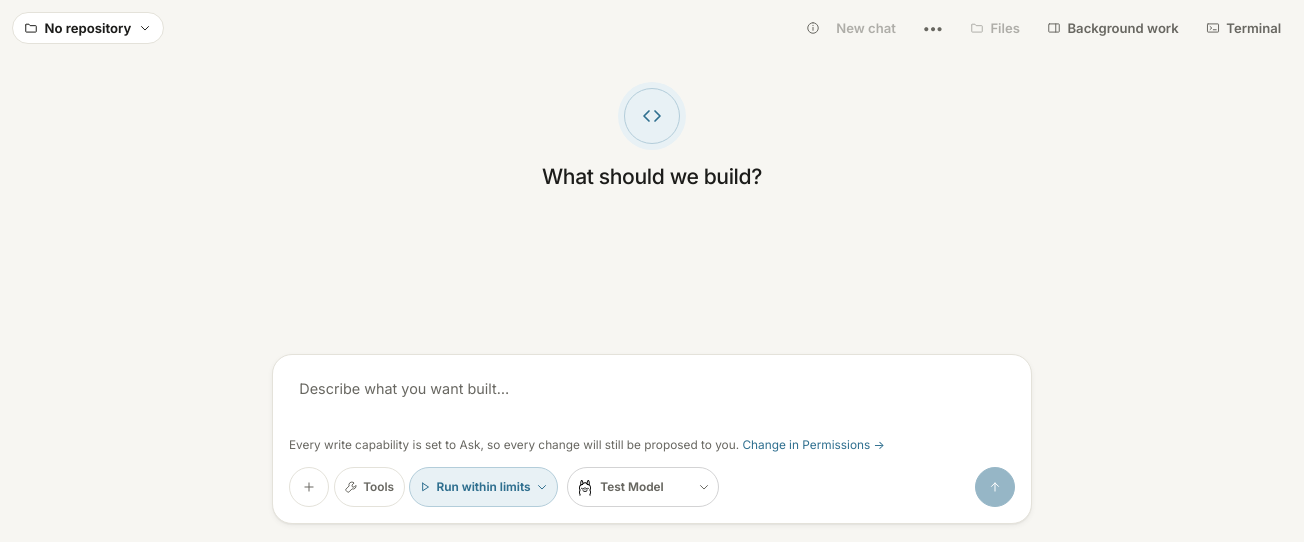
it: Build's artifact zone › closes the zone again, and the toggle says which state it is in
Click the button named "Add to this turn" at [309, 487], box top-left (289, 467), bottom-right (329, 507)
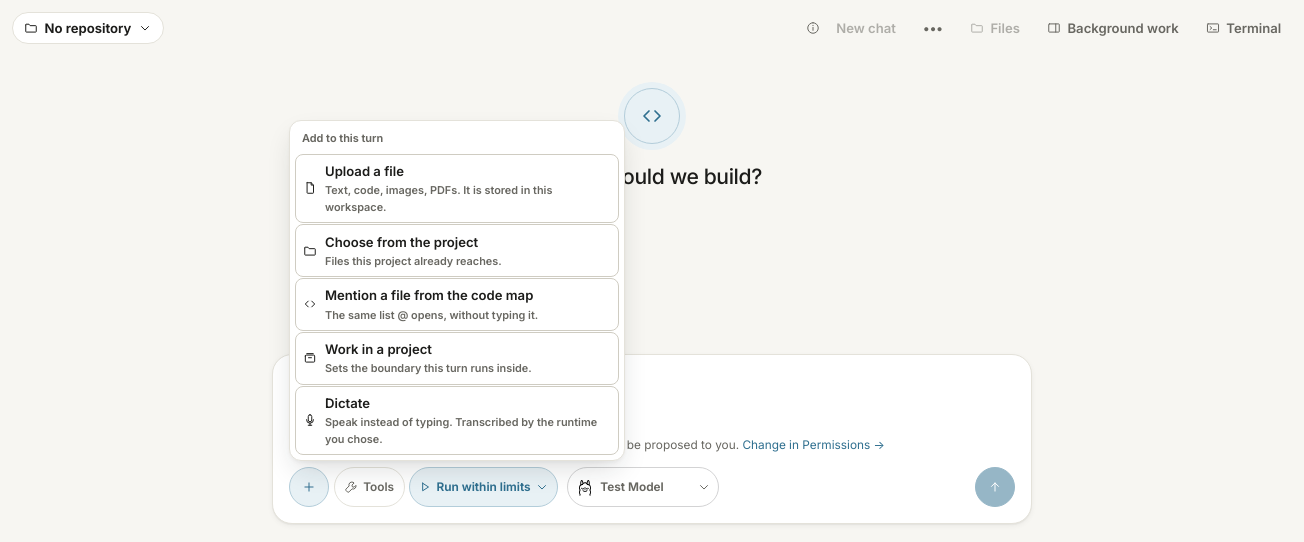
Click the menu item "Work in a project" at [378, 349], box top-left (295, 332), bottom-right (619, 385)
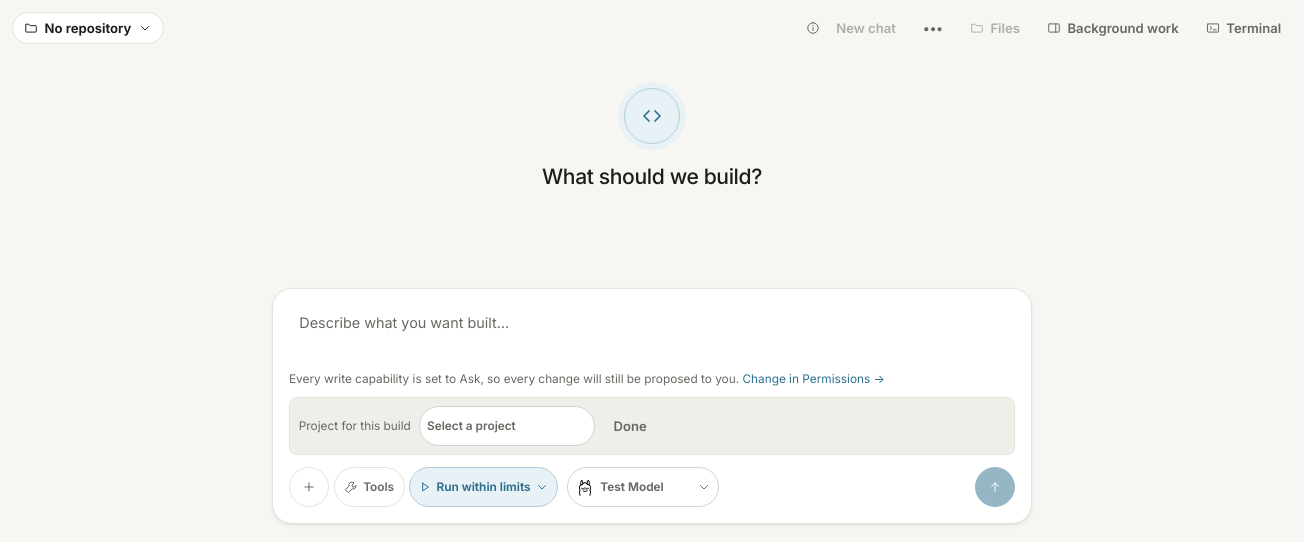
Select "Landing page" in the dropdown labelled "Project for this build" at [507, 426], box top-left (419, 406), bottom-right (595, 446)
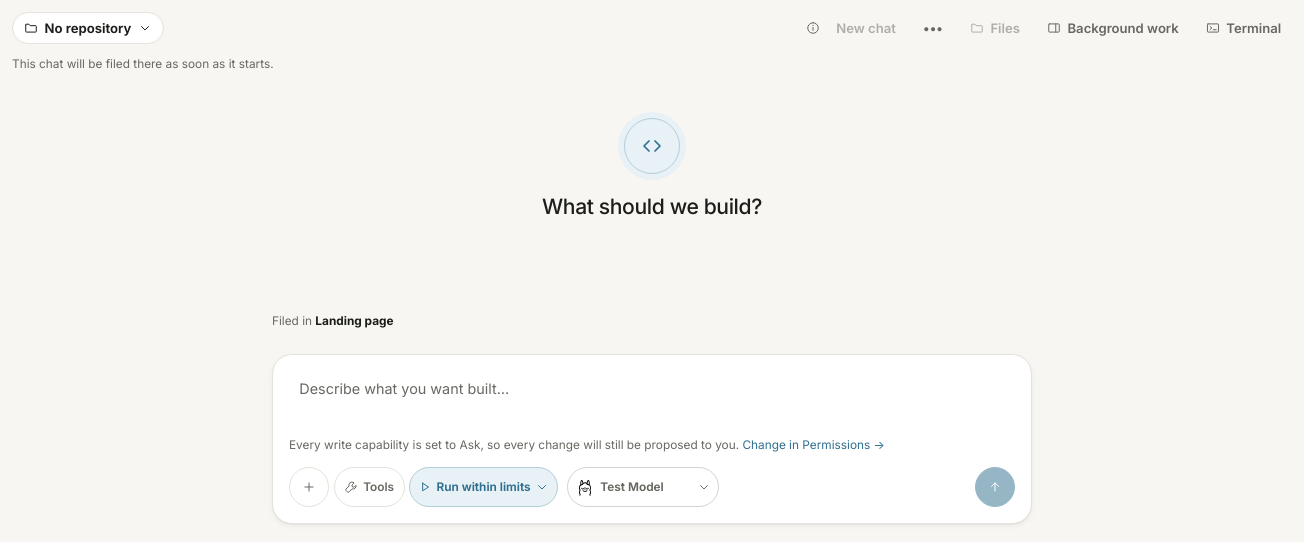
Click the button with aria-label "Show the governed terminal" at [1244, 28], box top-left (1195, 12), bottom-right (1292, 44)
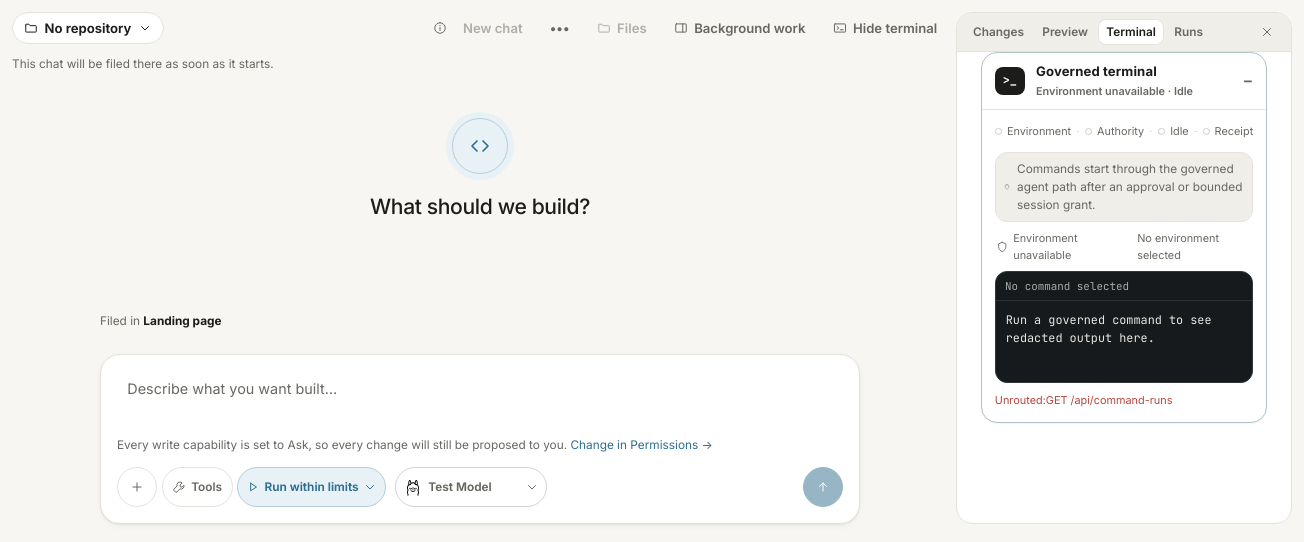
Check: the text "Governed terminal" is shown, box top-left (1036, 63), bottom-right (1157, 79)
Click the button with aria-label "Hide the governed terminal" at [885, 28], box top-left (822, 12), bottom-right (948, 44)
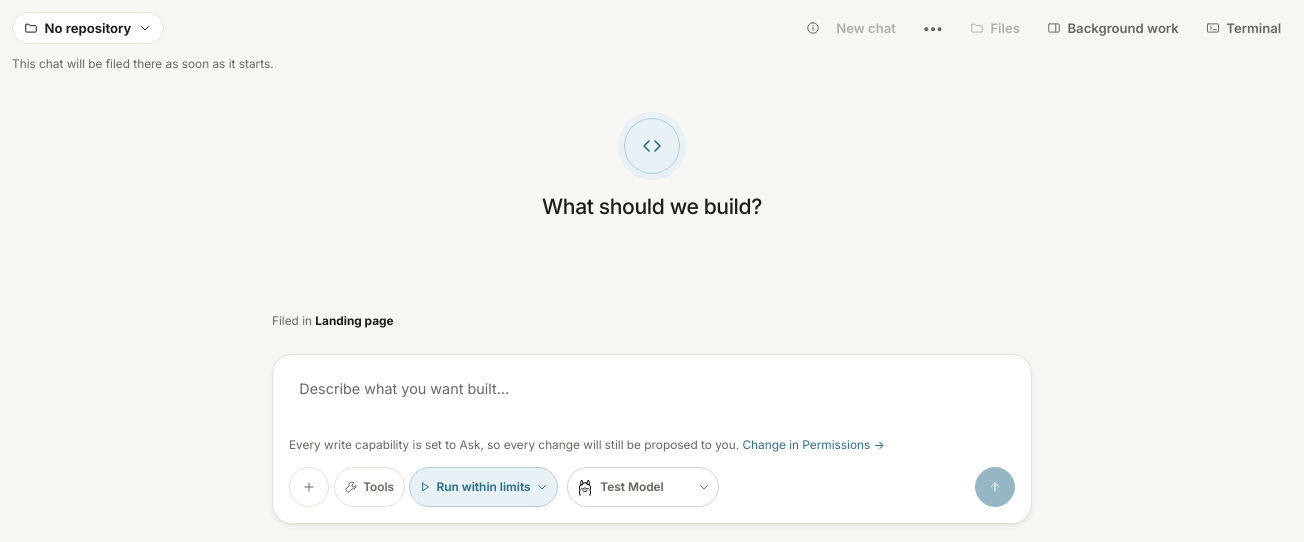
Check: the button "Governed terminal" is gone
